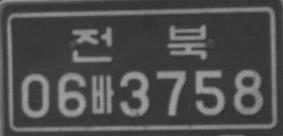0: (20, 72, 50, 118)
3: (119, 70, 151, 117)
5: (194, 68, 225, 116)
6: (57, 71, 88, 118)
7: (156, 69, 187, 117)
8: (233, 68, 264, 115)
바: (91, 73, 113, 114)
전북_D: (71, 23, 208, 62)
